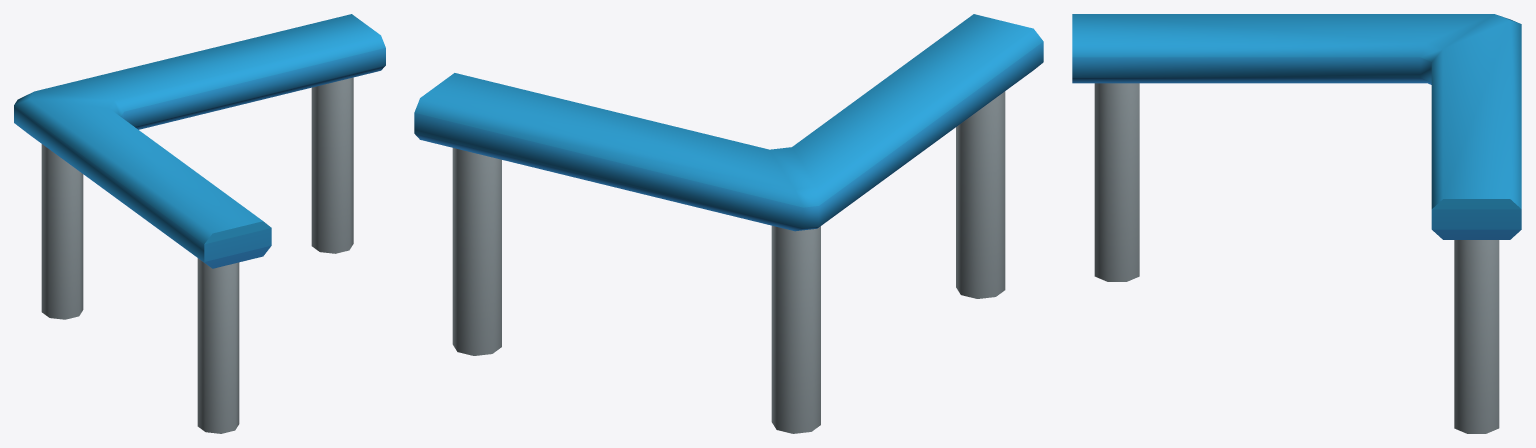
File: railing_corner_single_blue.glb
3 renders of one model, left to right at view 1: azimuth 30°, elevation 25°; view 2: azimuth 150°, elevation 25°; view 3: azimuth 270°, elevation 25°, orthographic. The views are drawn at different scales.
Visible parts, largest first — view 1: railing_corner_single_blue; view 2: railing_corner_single_blue; view 3: railing_corner_single_blue.
Boxes of the visible parts, x1,y1,x2,y2 form: railing_corner_single_blue: (14,14,385,433); railing_corner_single_blue: (414,14,1043,433); railing_corner_single_blue: (1072,14,1521,433).
Bounding box in the file's own units: 2 × 1.2 × 2.
1 material, 1 textured.
